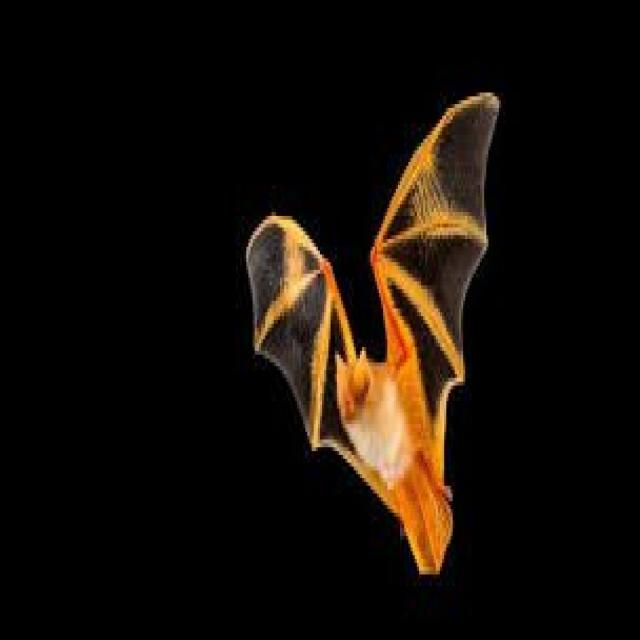Bat: (243, 72, 514, 558)
